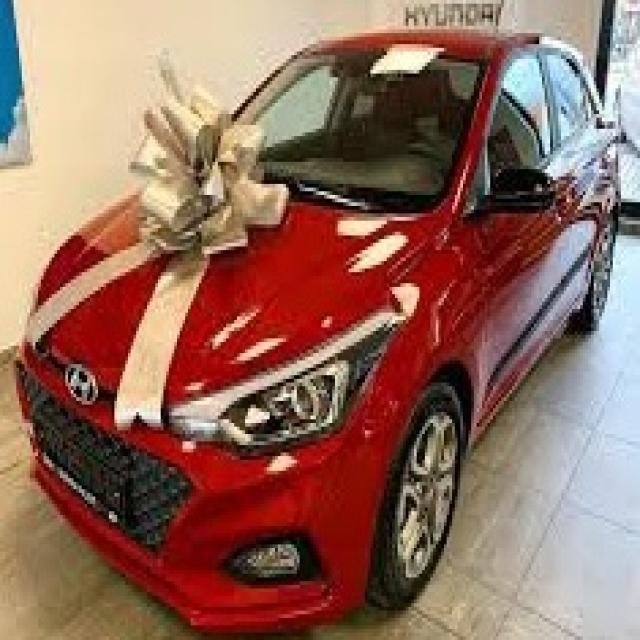red: (21, 14, 640, 604)
